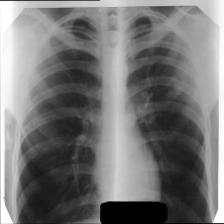tuberculosis: (8, 3, 215, 224)
